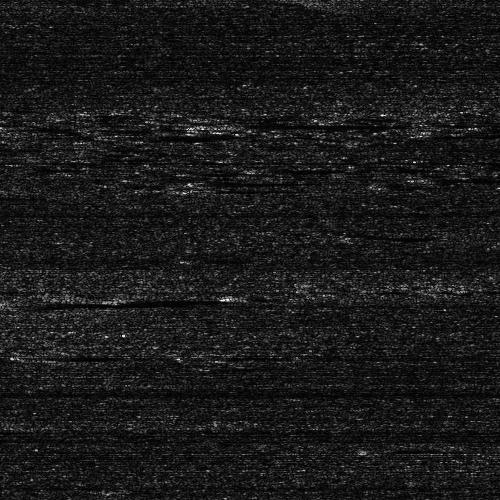object: (169, 118, 294, 127), (0, 297, 72, 310), (82, 130, 155, 137), (174, 187, 247, 194), (82, 295, 155, 302), (60, 155, 143, 160), (239, 167, 280, 172), (412, 174, 453, 179), (189, 179, 220, 184)
shadow: (10, 297, 163, 310), (231, 118, 398, 127), (119, 295, 241, 302), (119, 130, 237, 137), (205, 179, 328, 184), (260, 167, 344, 172), (101, 155, 180, 160), (433, 174, 500, 179), (211, 187, 252, 194)
